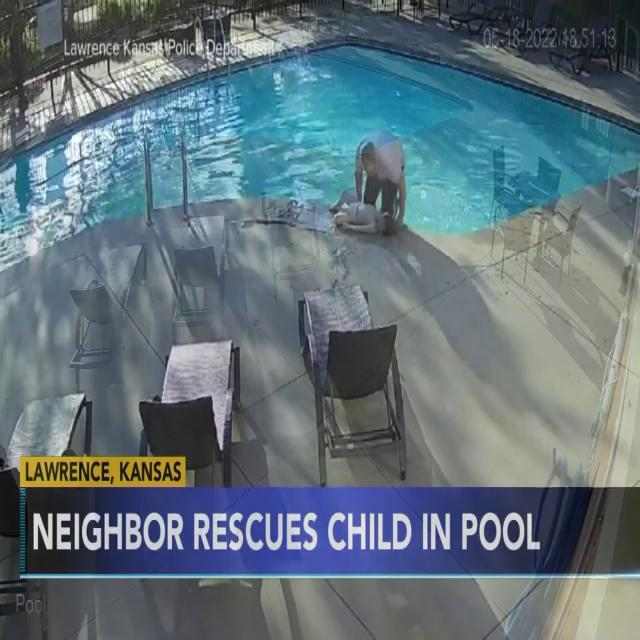adult: (355, 135, 406, 234)
child: (329, 191, 396, 238)
